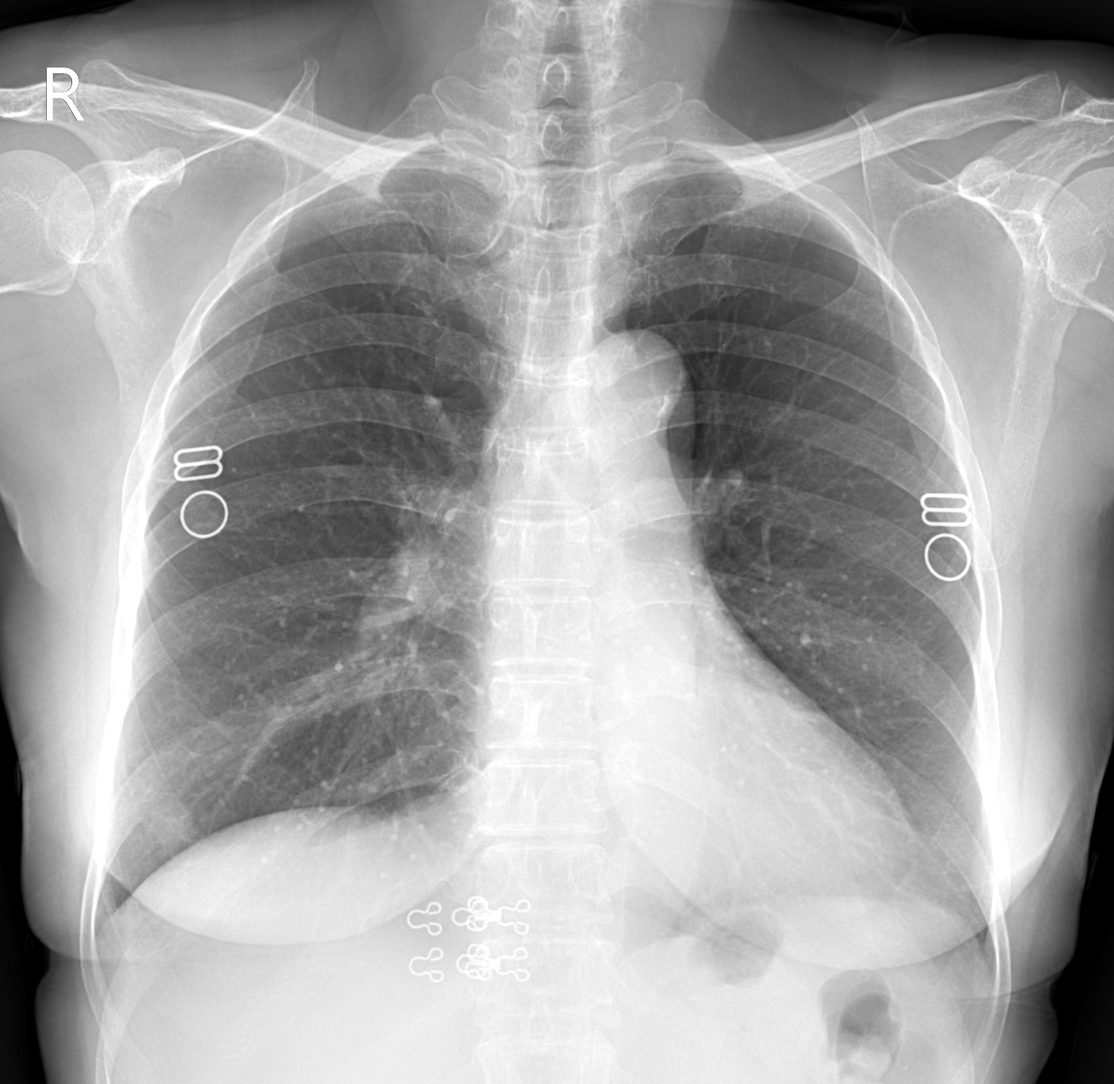Aortic enlargement: (567, 326, 696, 457)
Cardiomegaly: (470, 694, 923, 907)
